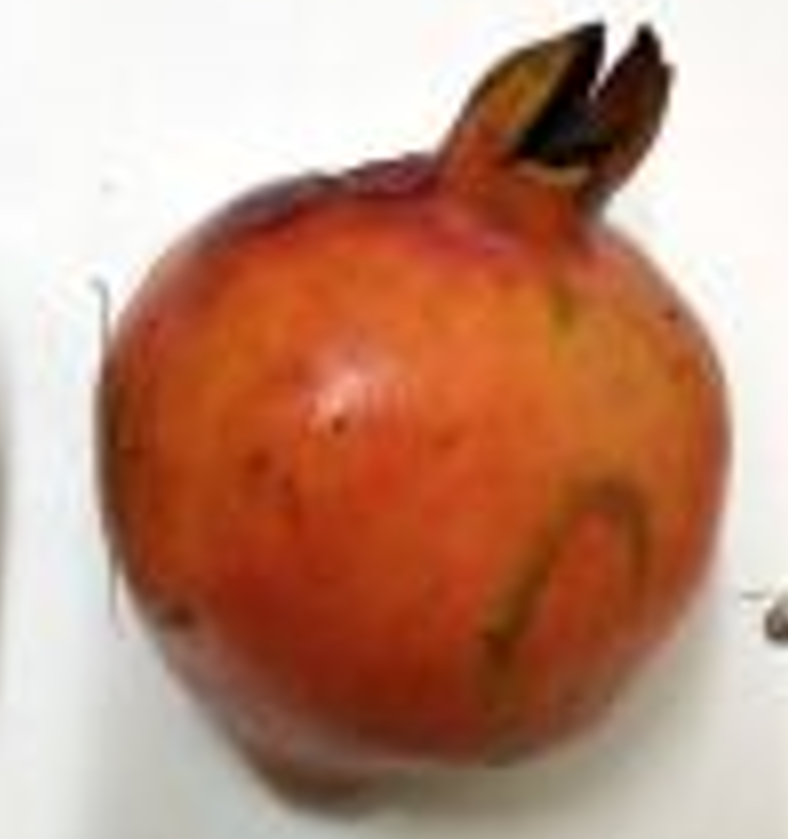pomegranate_B: (97, 21, 731, 802)
